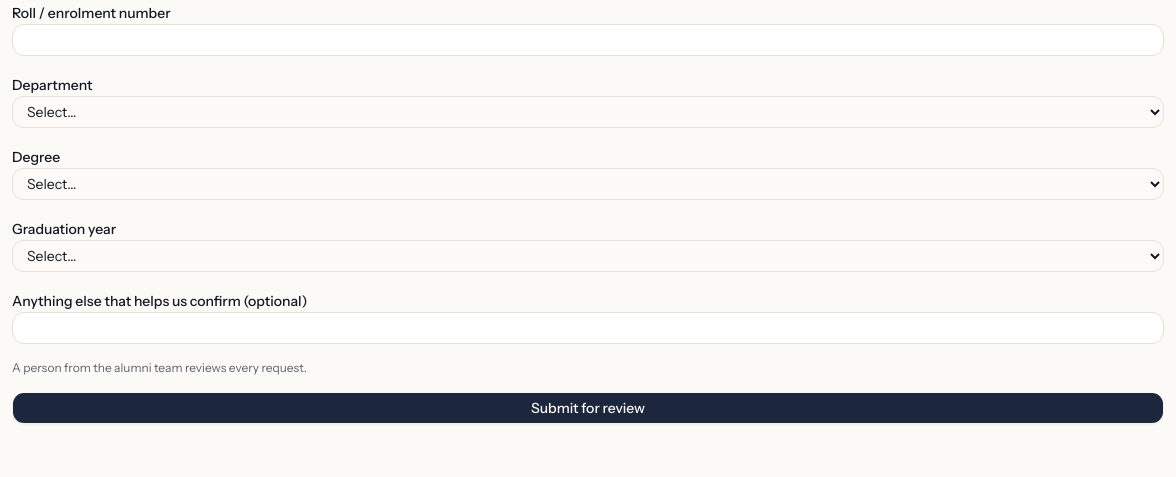
Scenario: EvidenceForm › shows the server's per-field and form-level messages
The width and height of the screenshot is (1176, 477).
In the field labelled "Roll / enrolment number": (588, 40) [12,24,1164,56], type "NITAP-2019-042"
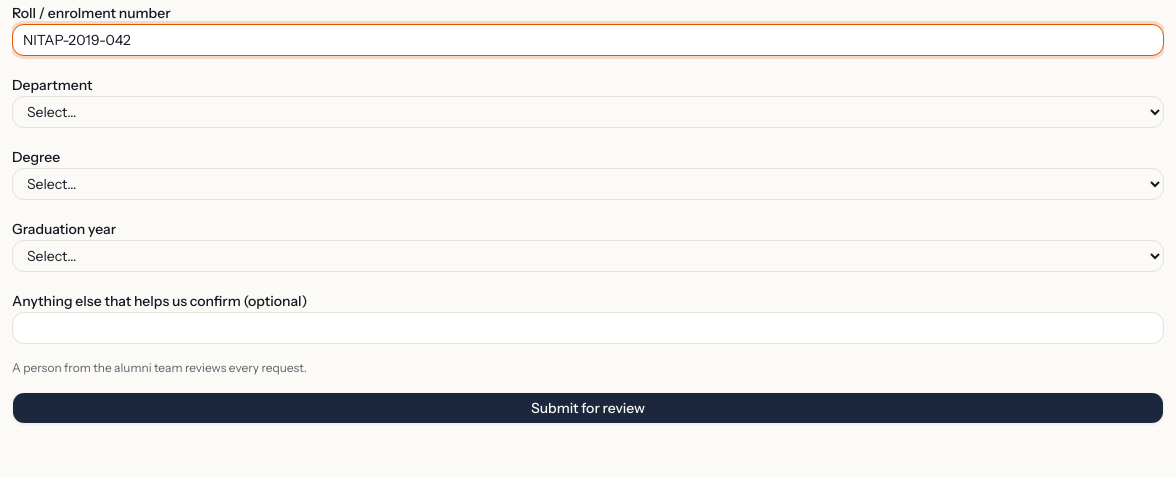
Select "Computer Science" in the dropdown labelled "Department": (588, 112) [12,96,1164,128]
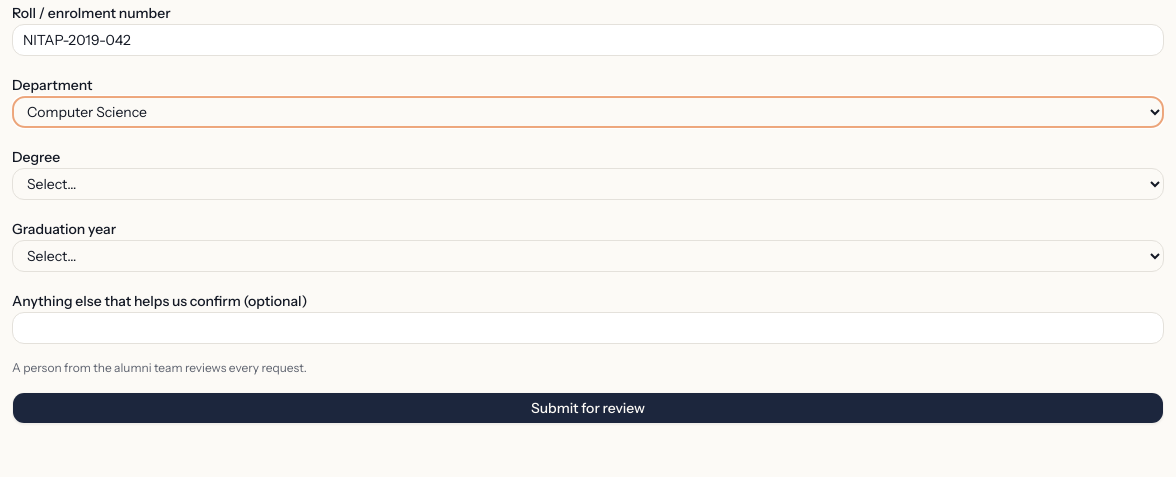
Select "B.Tech" in the dropdown labelled "Degree": (588, 184) [12,168,1164,200]
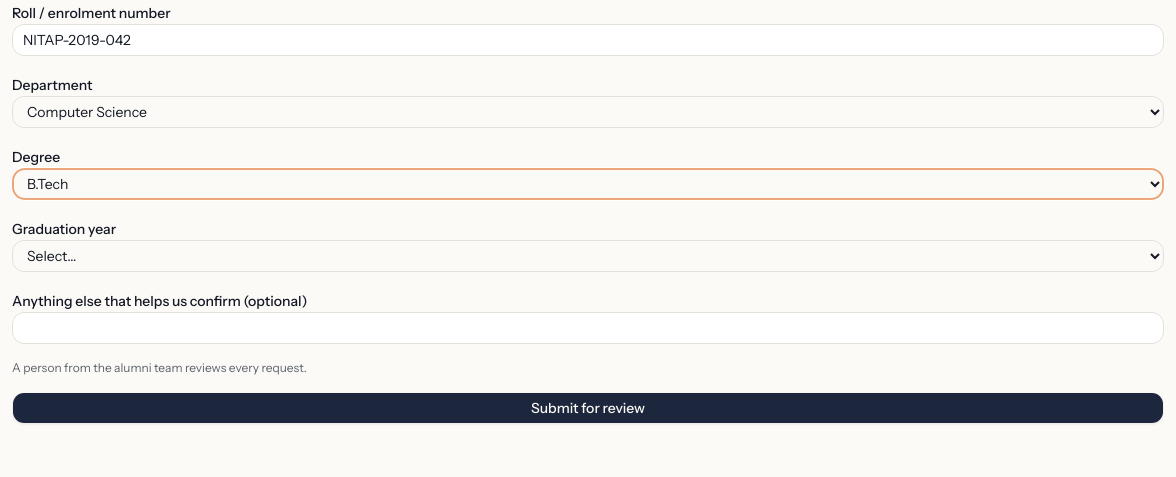
Select "2019" in the dropdown labelled "Graduation year": (588, 256) [12,240,1164,272]
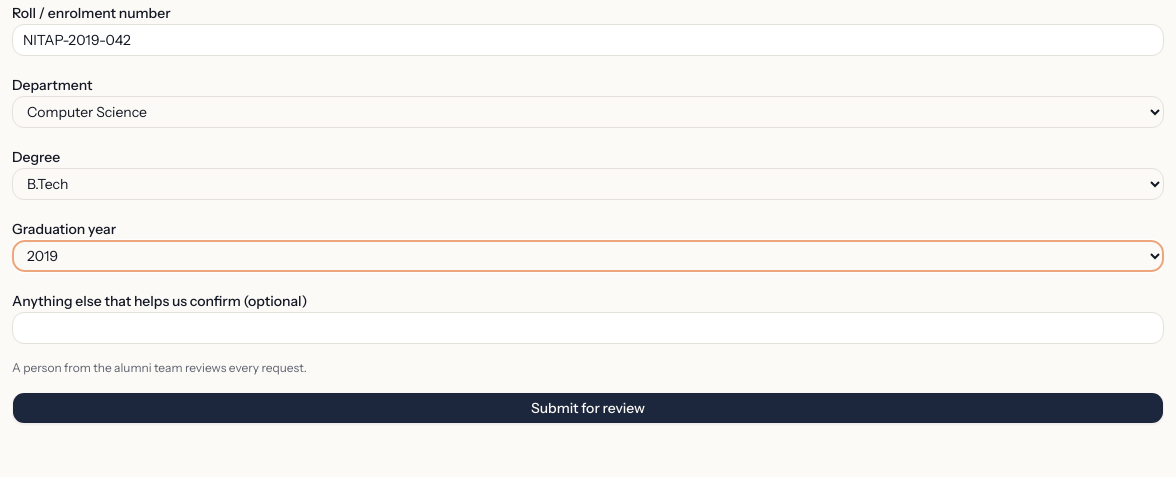
Click the button "Submit for review": (588, 408) [12,392,1164,424]
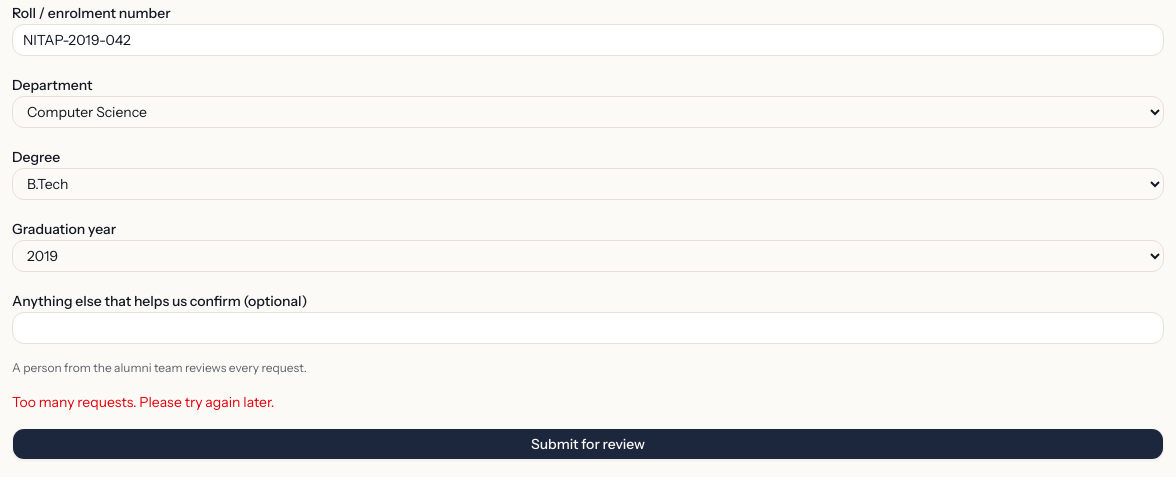
Expected: the message shows "Too many requests", [12,393,274,411]
